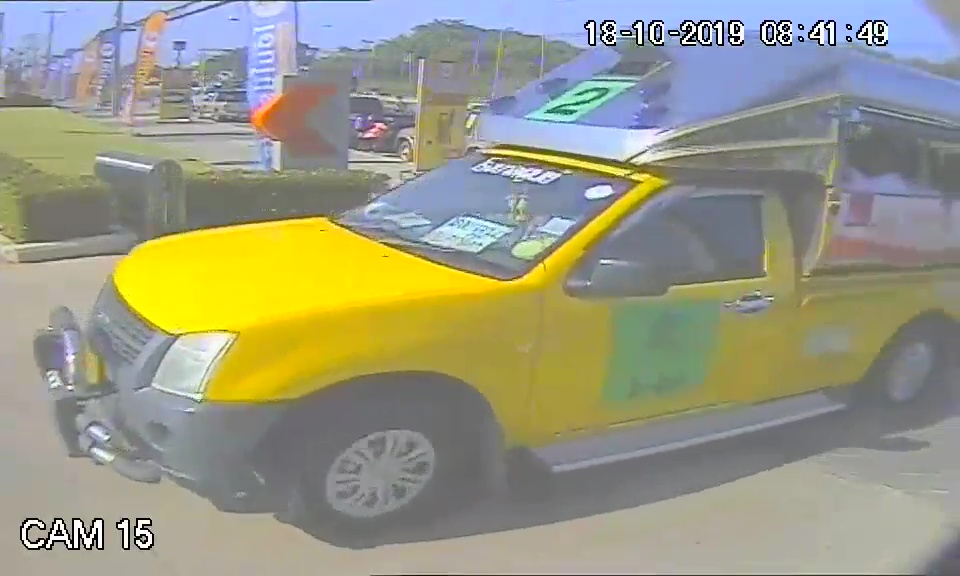pickup: (53, 141, 926, 531)
